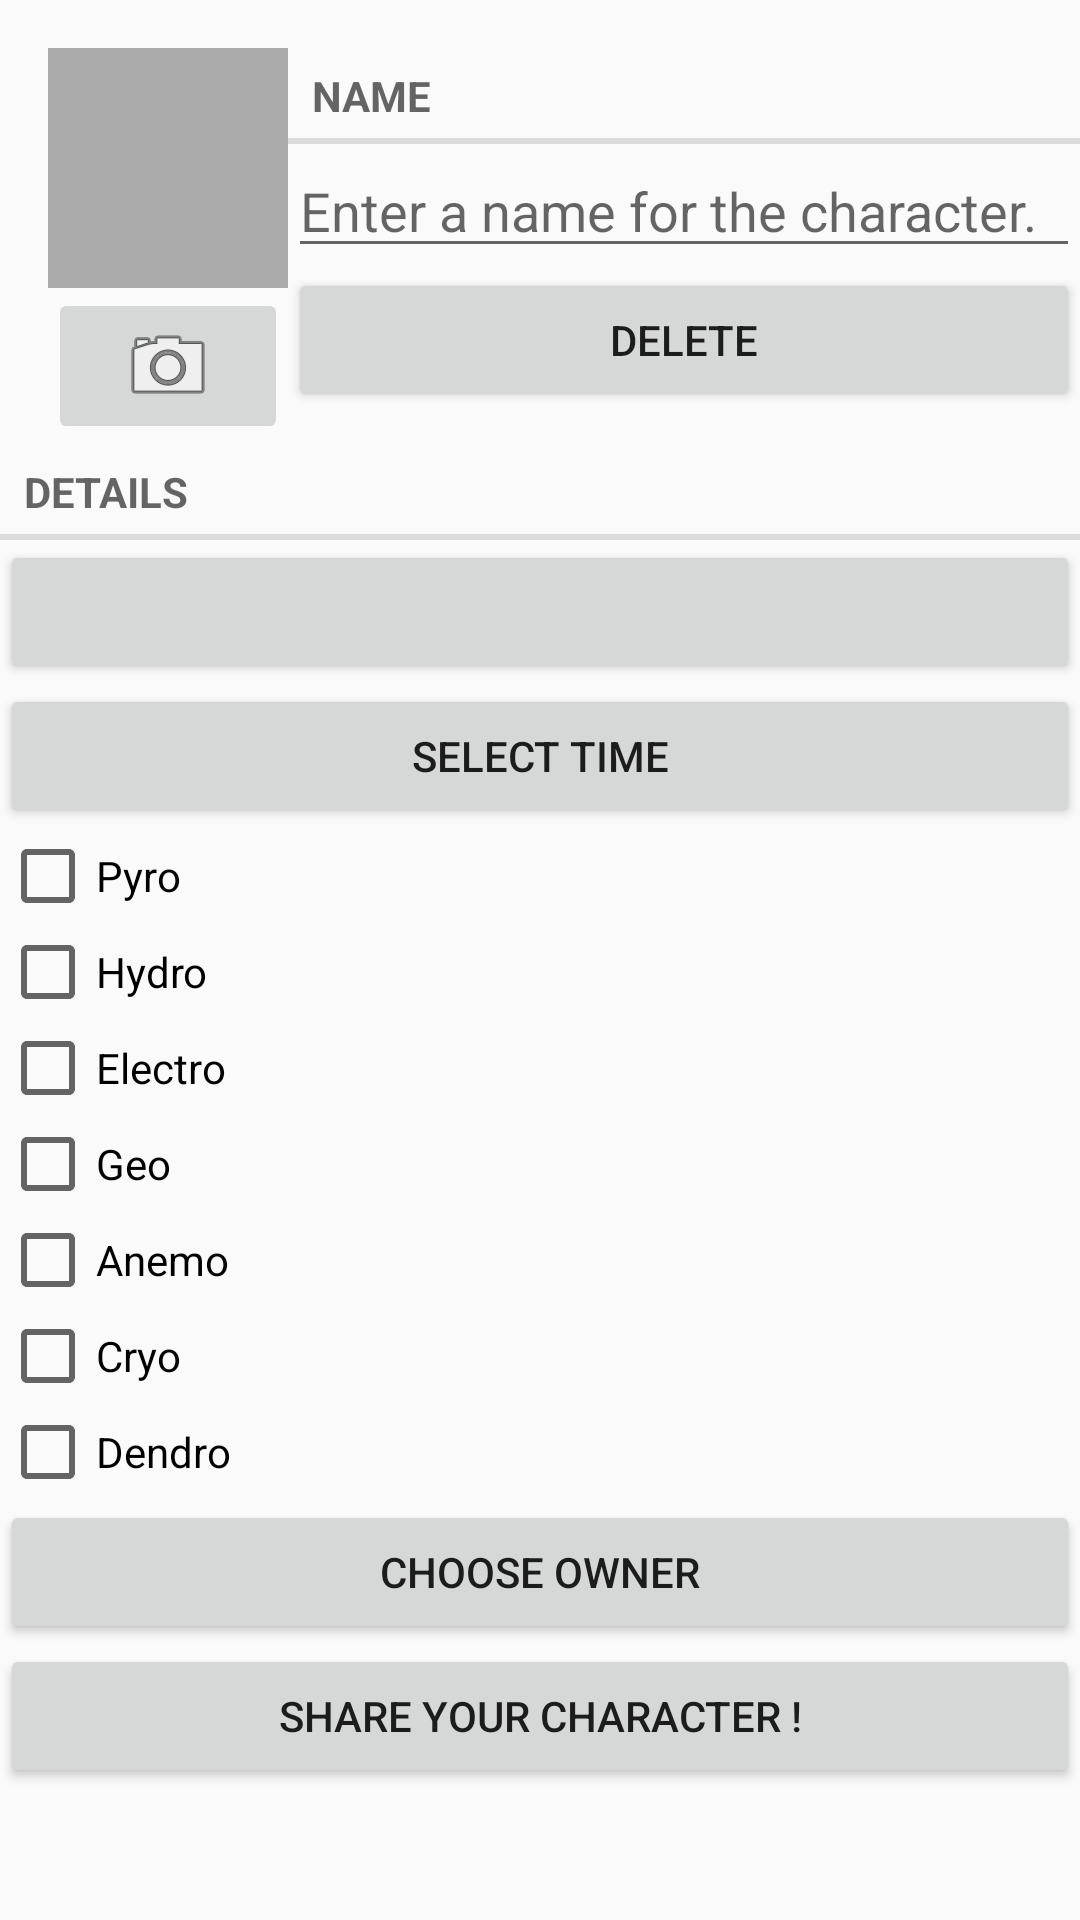

Icons on this 1080x1920 Android screen, each with its box as Rect(x1, y1, x2, y2):
Take photo of character scene: Rect(60, 306, 276, 426)
